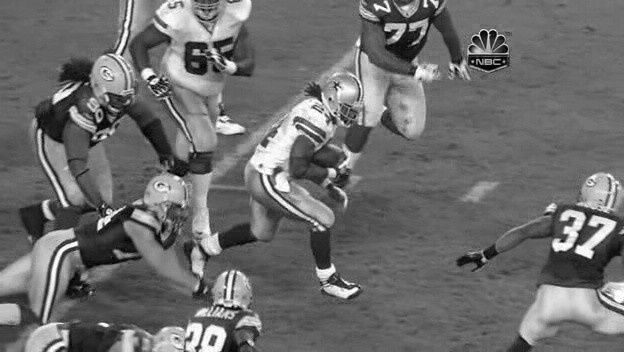person: (326, 74, 362, 126), (325, 74, 361, 126), (327, 74, 363, 126), (326, 73, 362, 125), (326, 75, 362, 127)
target_negative: (196, 109, 575, 260), (34, 216, 417, 275), (480, 56, 590, 248), (205, 191, 434, 207), (544, 306, 559, 313), (551, 336, 589, 338)
